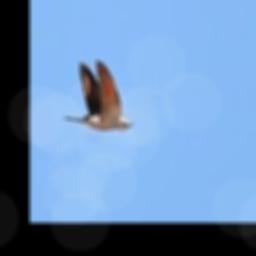Cuckoo: (61, 62, 132, 132)
